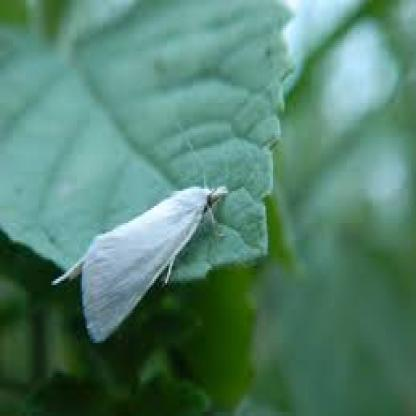stem-borer: (48, 179, 232, 347)
